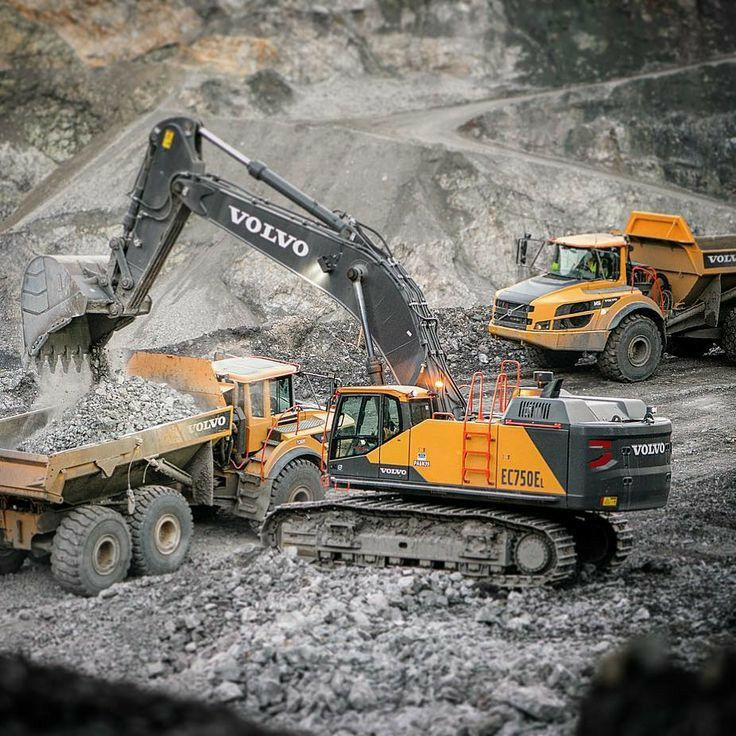excavator: (23, 114, 697, 558)
truck: (7, 334, 333, 595), (476, 170, 728, 382)
